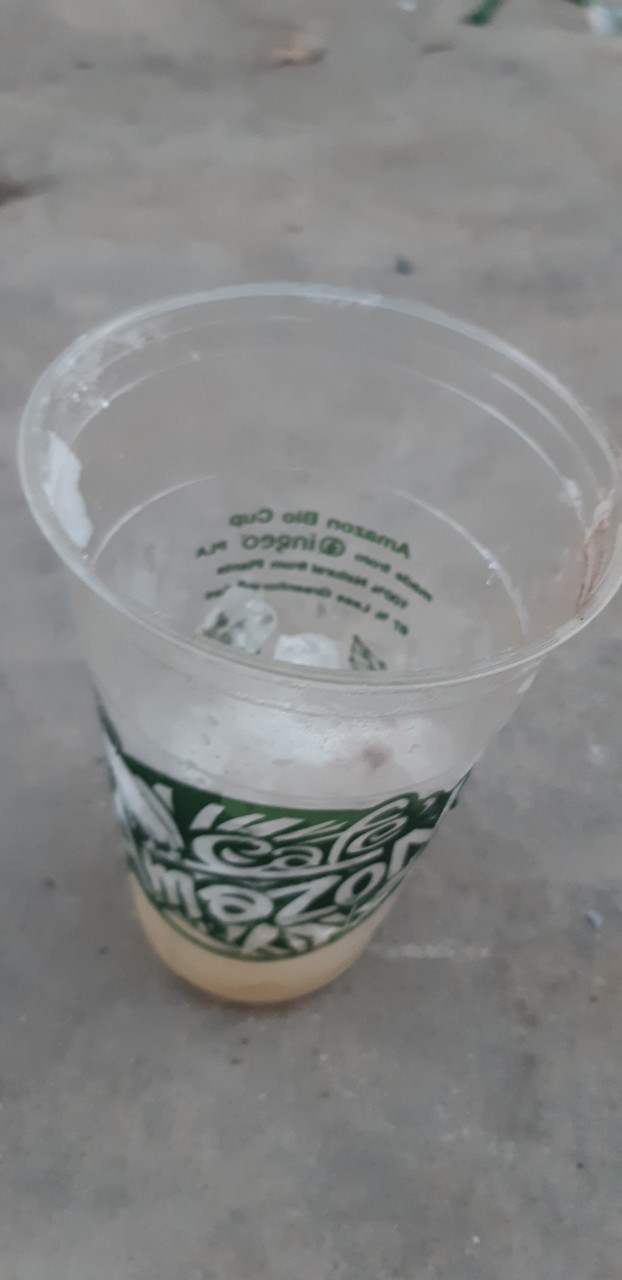PlasticCup: (16, 280, 608, 1008)
